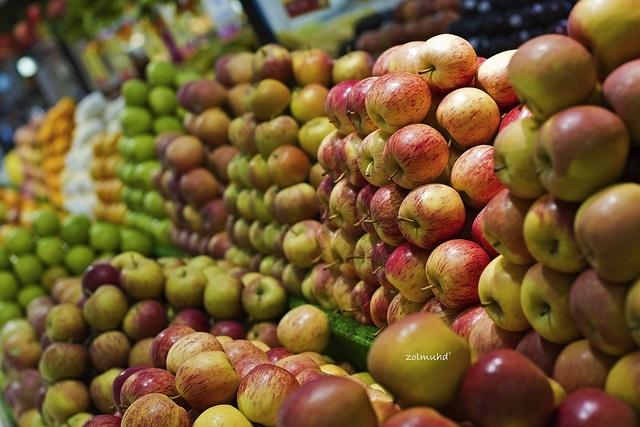apple: (458, 349, 553, 425), (568, 268, 640, 356), (566, 0, 640, 78), (522, 194, 586, 274), (419, 240, 492, 310), (396, 182, 466, 250), (168, 350, 242, 414), (478, 254, 536, 332), (493, 118, 548, 200), (382, 124, 450, 190), (364, 71, 432, 134), (237, 364, 301, 427), (449, 145, 506, 212), (552, 338, 620, 394), (548, 388, 638, 427), (384, 242, 434, 302), (474, 49, 520, 113), (120, 368, 184, 414), (516, 327, 566, 378), (122, 393, 192, 427), (329, 178, 367, 237), (604, 350, 640, 412), (118, 255, 166, 301), (39, 337, 88, 382), (150, 324, 197, 370), (282, 219, 324, 270), (358, 128, 394, 187), (242, 276, 288, 322), (82, 285, 127, 332), (274, 182, 320, 227), (266, 144, 312, 188), (202, 272, 245, 318), (254, 114, 300, 157), (45, 380, 90, 423), (164, 134, 206, 180), (346, 234, 382, 286), (292, 44, 334, 88), (88, 330, 132, 372), (88, 366, 125, 415), (381, 405, 462, 427), (296, 117, 336, 160), (343, 280, 379, 326), (290, 82, 328, 124), (386, 292, 426, 329), (419, 296, 463, 329), (80, 262, 120, 298), (4, 334, 42, 371), (332, 51, 374, 83), (198, 195, 230, 235), (332, 274, 360, 318), (233, 355, 276, 383), (233, 112, 261, 154), (222, 340, 269, 364), (312, 220, 338, 263), (370, 286, 396, 329), (624, 276, 640, 344), (372, 44, 406, 76), (168, 308, 210, 333), (244, 321, 282, 348), (87, 221, 120, 252), (249, 153, 274, 192), (226, 52, 256, 84), (118, 228, 152, 256), (0, 318, 38, 342), (128, 336, 156, 368), (108, 250, 146, 272), (154, 132, 183, 160), (160, 166, 182, 200), (236, 154, 256, 189), (273, 223, 293, 258), (232, 216, 252, 250), (239, 271, 267, 287), (187, 231, 203, 258), (259, 255, 278, 276)
